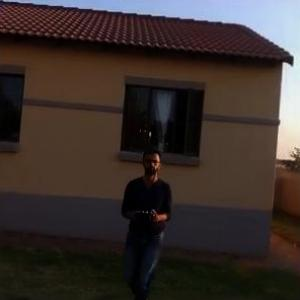follow: (112, 142, 176, 299)
